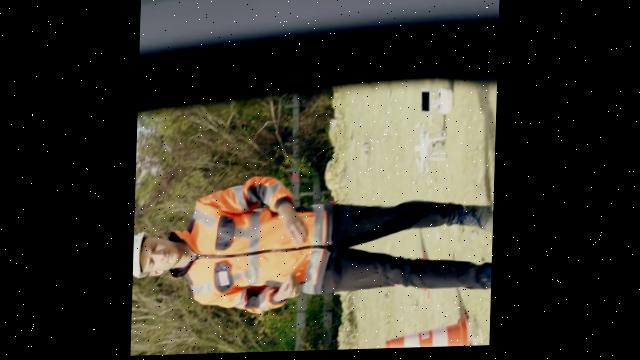drone: (411, 120, 450, 179)
